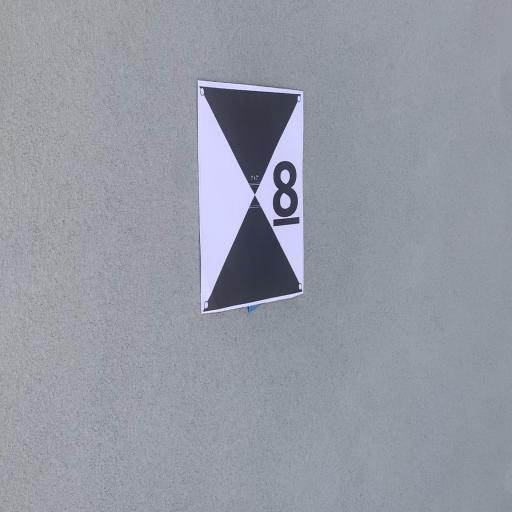target8: (198, 79, 303, 312)
